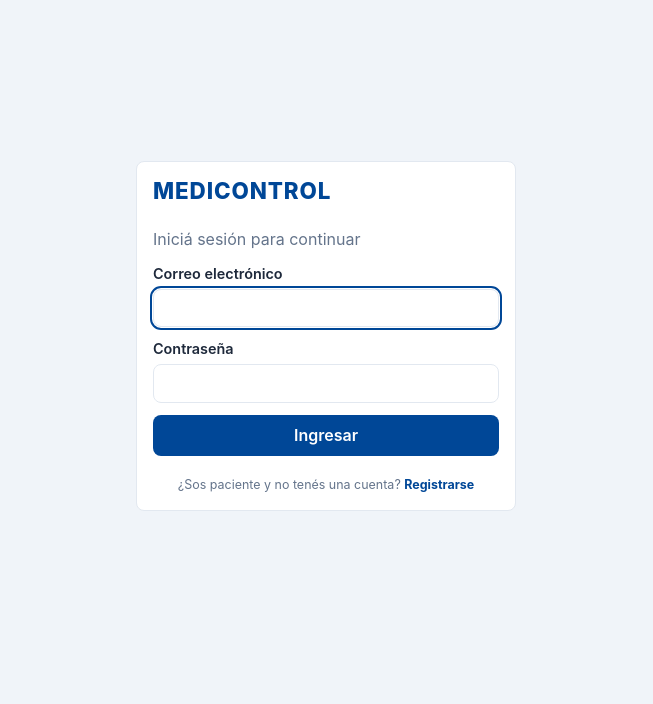
Test: Registro público de pacientes › el login enlaza al registro
The width and height of the screenshot is (653, 704).
Click the link "Registrarse" at (439, 485), box x1=404 y1=477 x2=474 y2=492
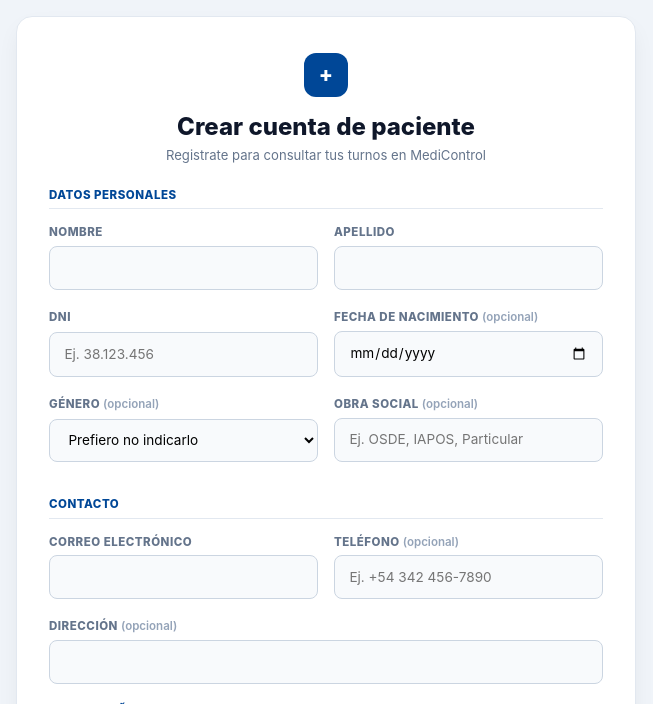
Result: the heading "Crear cuenta de paciente" is shown at x1=177 y1=112 x2=475 y2=141
